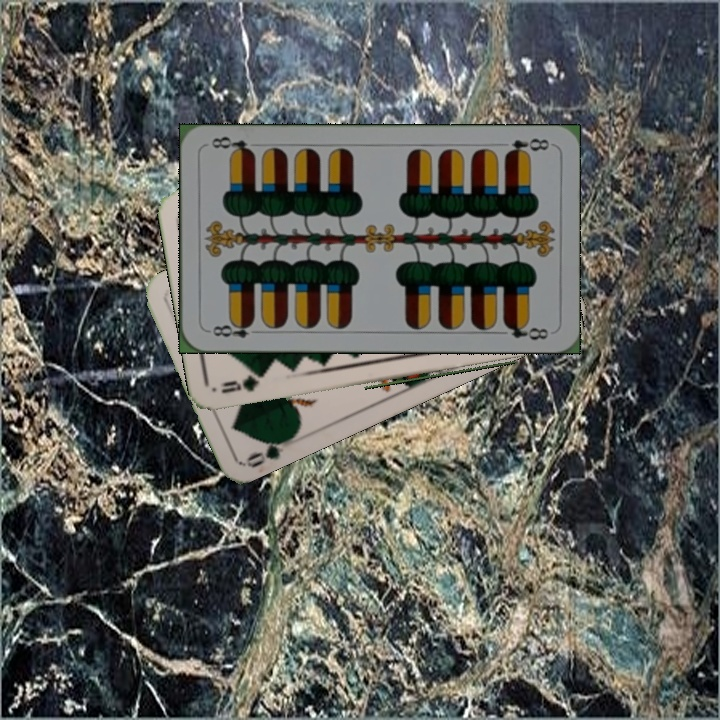E8: (204, 317, 263, 340), (501, 134, 551, 159)
G9: (217, 370, 270, 396)
GO: (243, 431, 298, 471)
